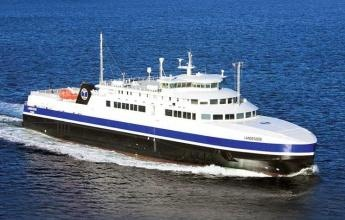yacht: (17, 49, 321, 179)
